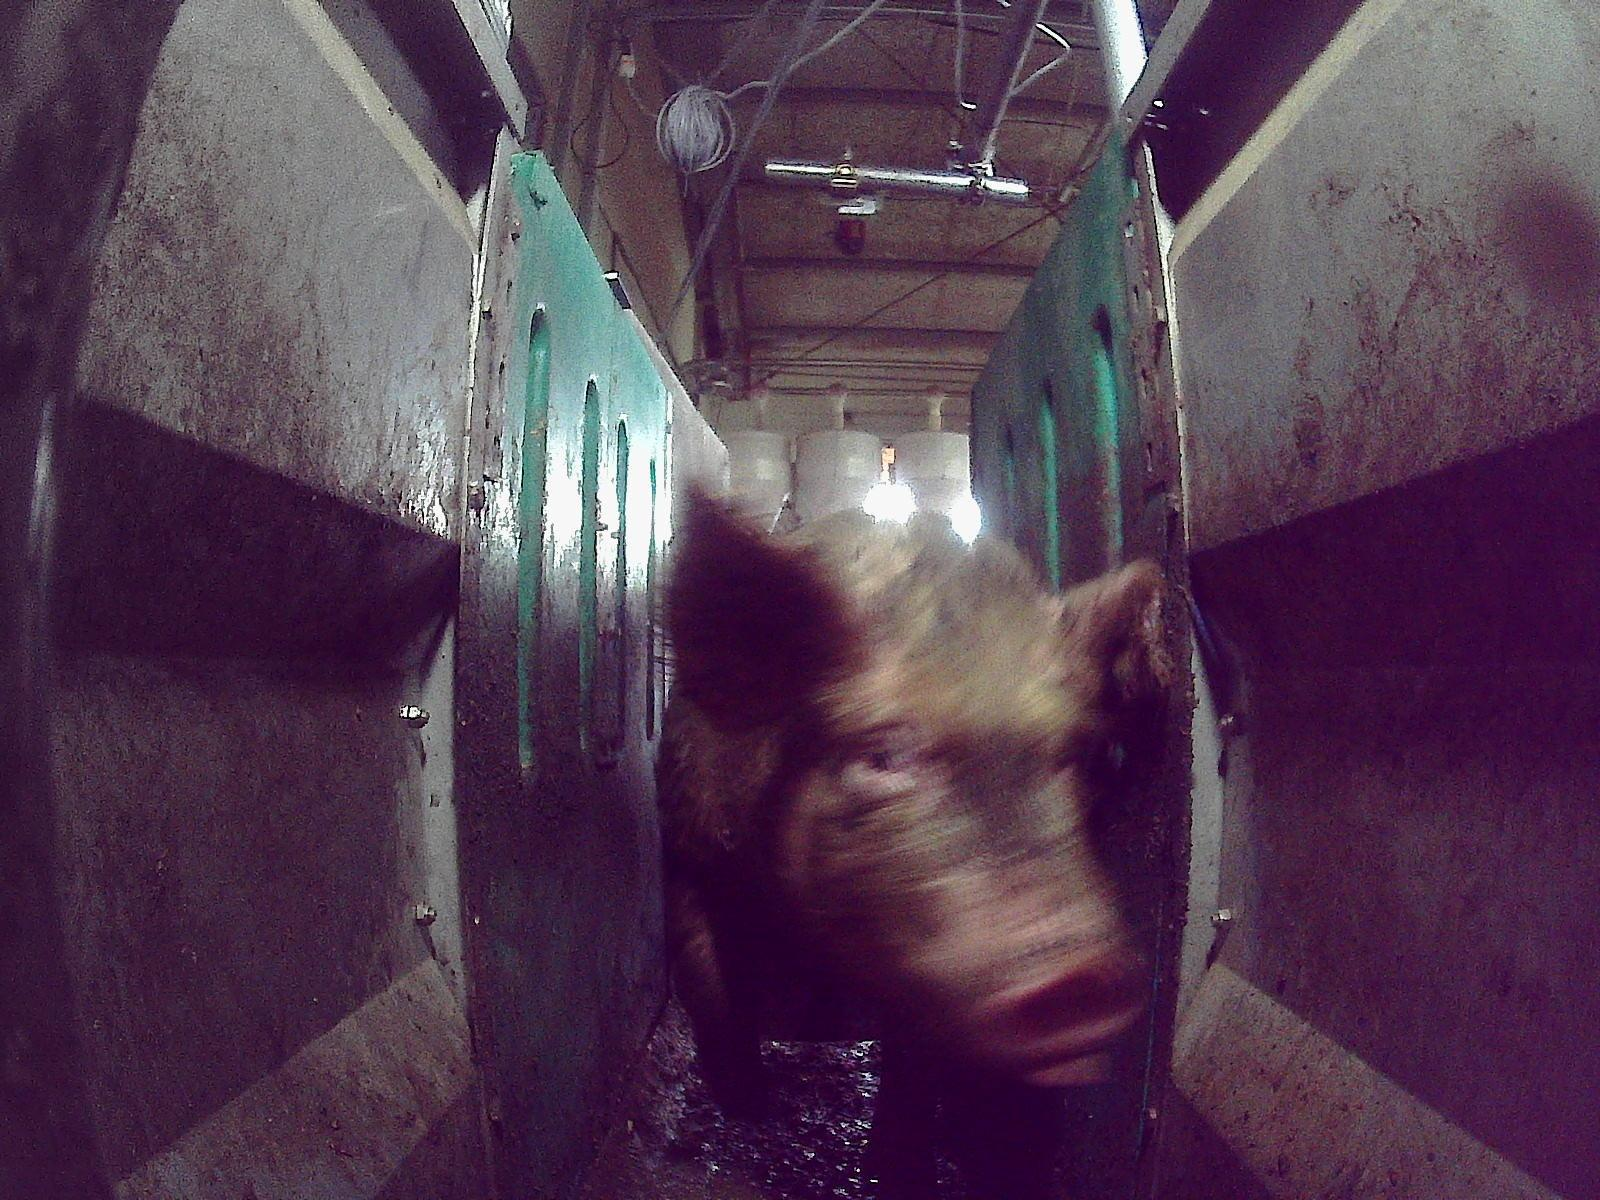Face: (785, 578, 1152, 1088)
